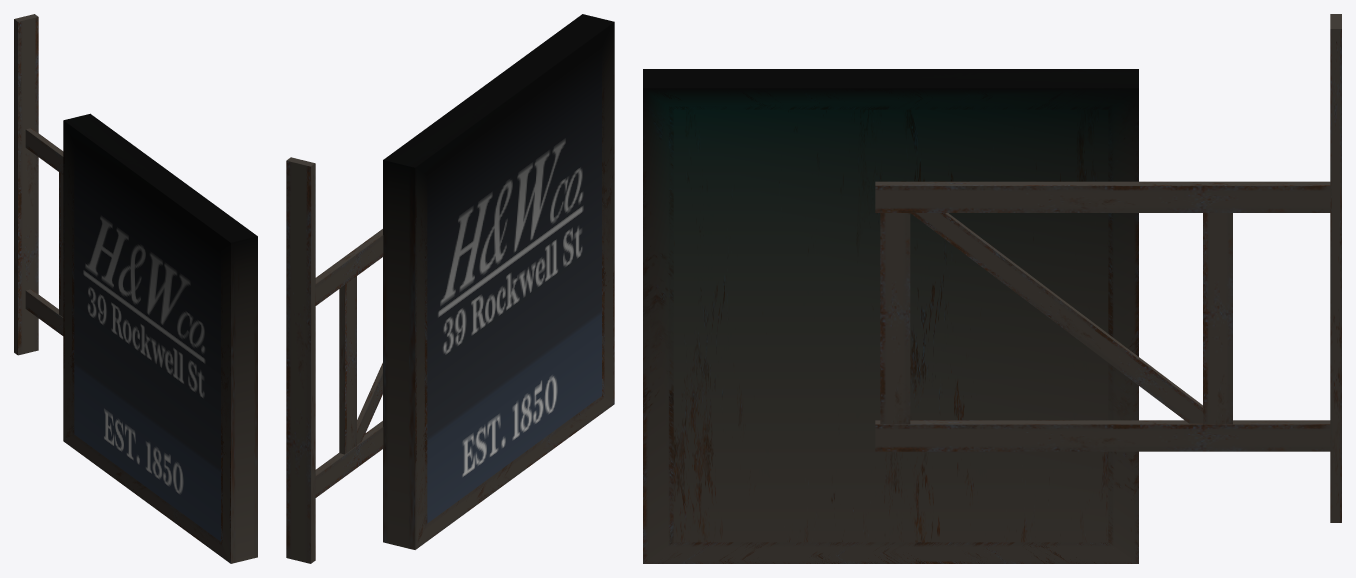
The model's file is Prop_Sign_HW_Side_L.gltf.
3 renders of one model, left to right at view 1: azimuth 30°, elevation 25°; view 2: azimuth 150°, elevation 25°; view 3: azimuth 270°, elevation 25°, orthographic. The views are drawn at different scales.
Parts seen in each view (by area): view 1: Prop_Sign_HW_Side_L; view 2: Prop_Sign_HW_Side_L; view 3: Prop_Sign_HW_Side_L.
Boxes of the visible parts, box(x1,y1,x2,y2) form: Prop_Sign_HW_Side_L: box(14, 14, 257, 563); Prop_Sign_HW_Side_L: box(286, 14, 614, 563); Prop_Sign_HW_Side_L: box(643, 14, 1341, 563).
Size of the model in its own units: 0.1528 by 1.35 by 1.57.
2 materials, 2 textured.
